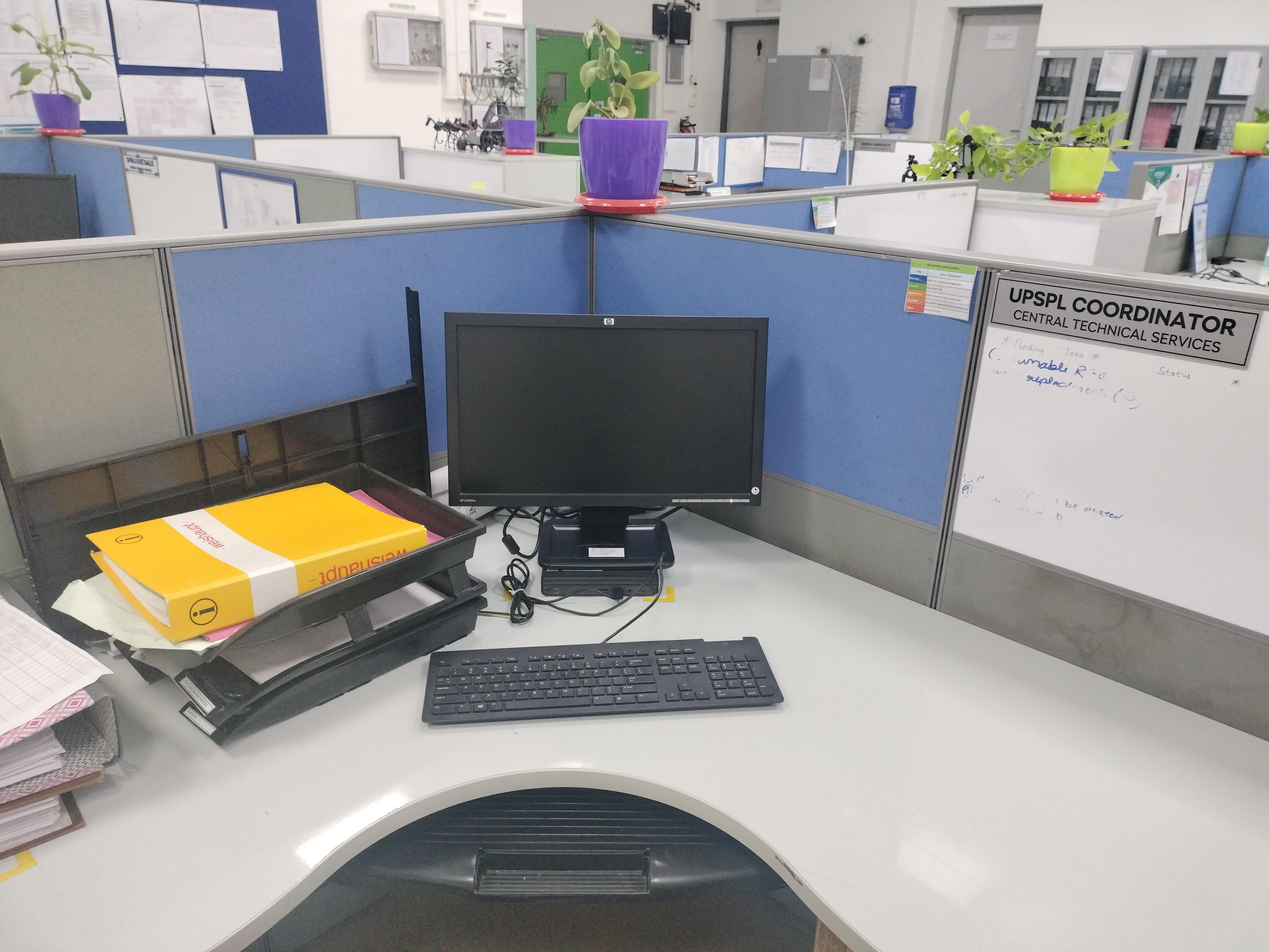StickyNotes: (902, 257, 983, 319)
desktop: (443, 311, 773, 570)
file: (85, 480, 429, 645), (3, 578, 127, 806), (0, 765, 104, 857)
filetray: (113, 459, 490, 748)
keyboard: (417, 635, 785, 726)
nameplate: (987, 269, 1264, 372)
page: (0, 600, 113, 736)
vase: (574, 114, 672, 215)
